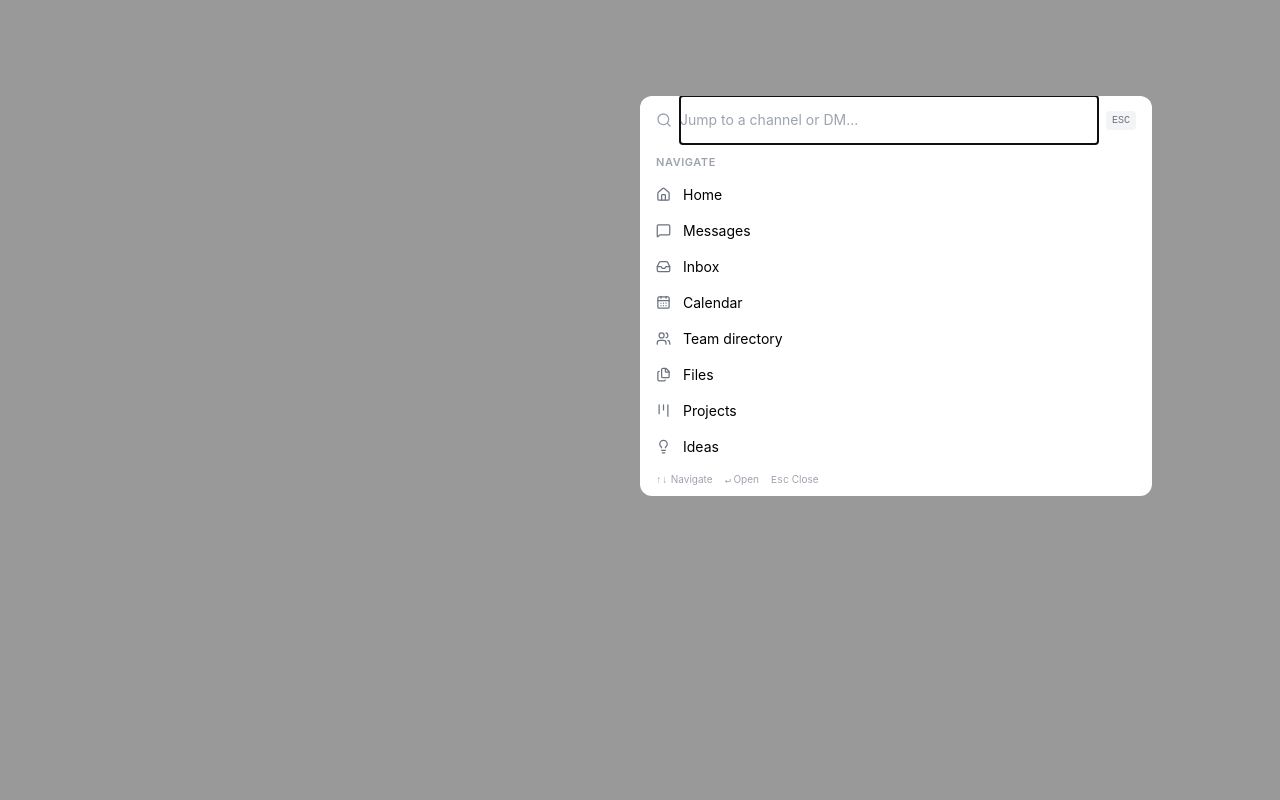
Scenario: workspace commands › keeps message search available independently of page matches
The width and height of the screenshot is (1280, 800).
Type "search" into the dropdown at (889, 120), box x1=680 y1=96 x2=1098 y2=144
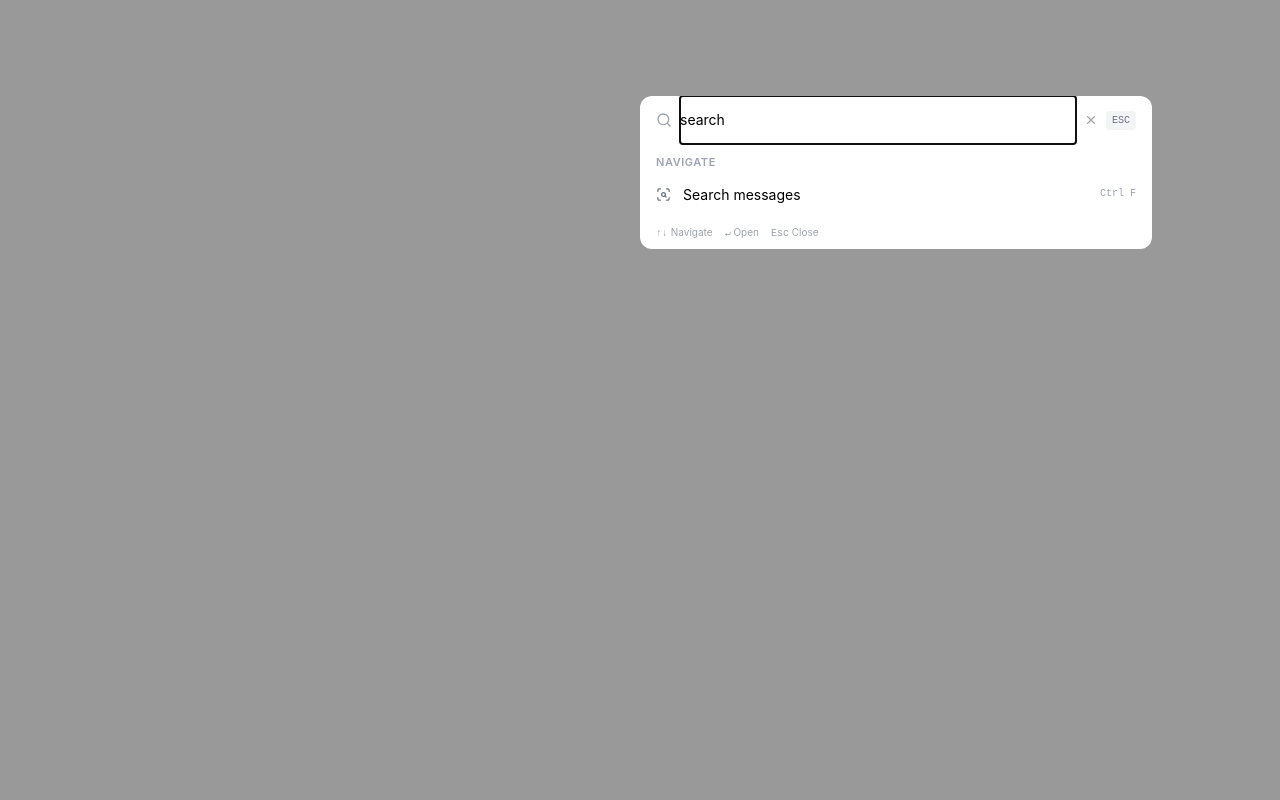
Result: the option "Search messages Ctrl F" is shown at x1=656 y1=186 x2=1136 y2=202
